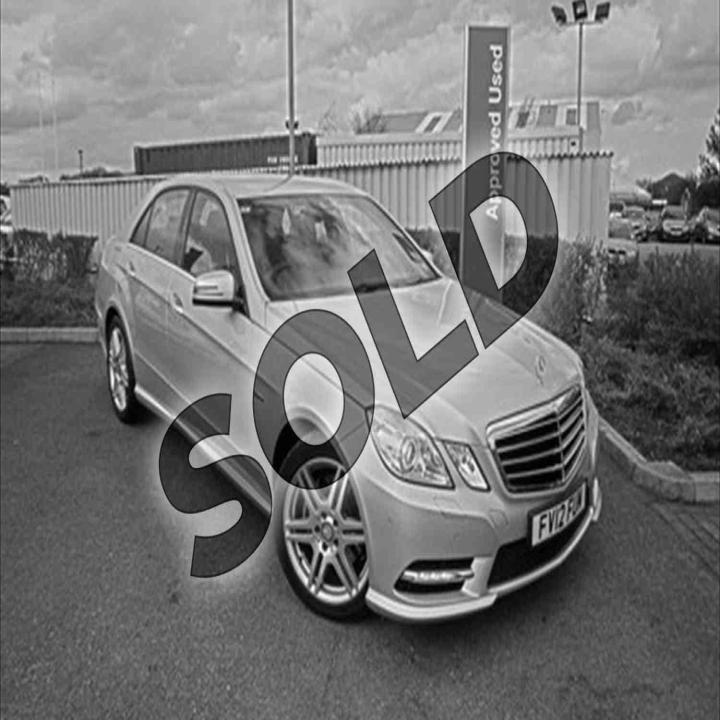car: (90, 169, 604, 625)
plat: (532, 481, 586, 544)
